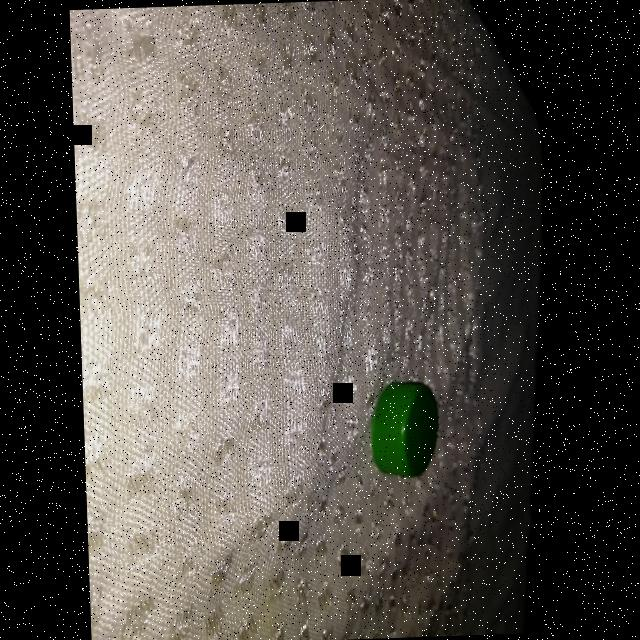plastic_bottle_cap: (370, 380, 440, 478)
